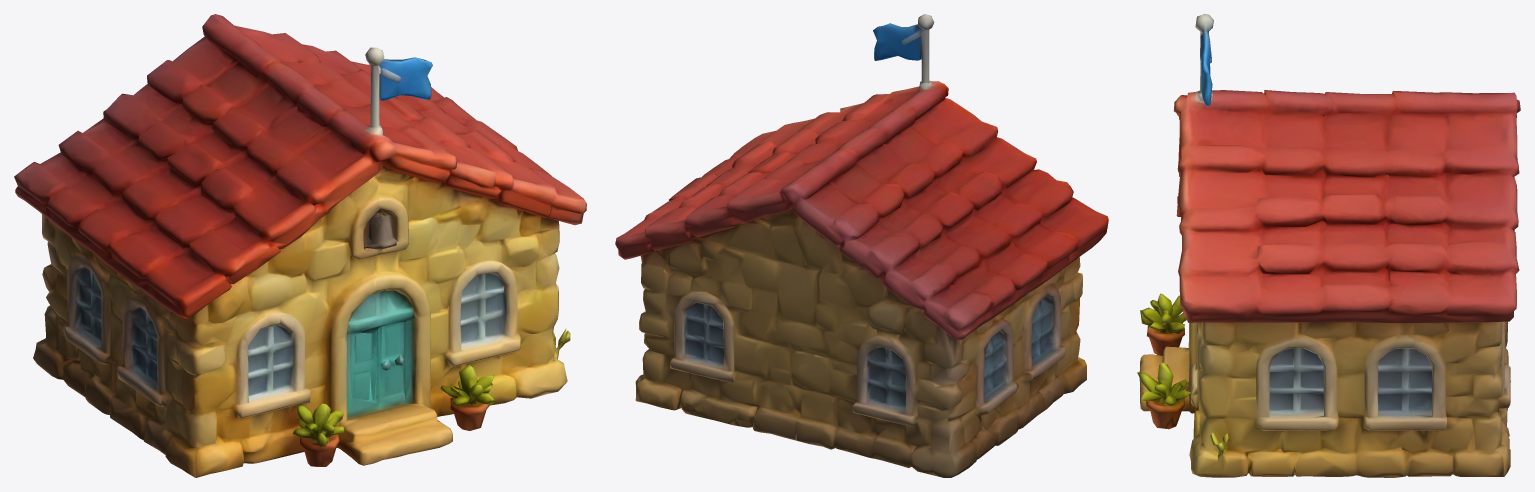
The model's file is classroom.glb.
The picture shows the model from 3 angles, left to right: view 1: azimuth 30°, elevation 25°; view 2: azimuth 150°, elevation 25°; view 3: azimuth 270°, elevation 25°; orthographic projection. The views are drawn at different scales.
Visible parts, largest first — view 1: tripo_node_6d3f4416-1090-45a7-afe2-54afaab62e38; view 2: tripo_node_6d3f4416-1090-45a7-afe2-54afaab62e38; view 3: tripo_node_6d3f4416-1090-45a7-afe2-54afaab62e38.
Part boxes in pixels (bbox=[...]): tripo_node_6d3f4416-1090-45a7-afe2-54afaab62e38: bbox=[14, 14, 586, 477]; tripo_node_6d3f4416-1090-45a7-afe2-54afaab62e38: bbox=[615, 14, 1108, 477]; tripo_node_6d3f4416-1090-45a7-afe2-54afaab62e38: bbox=[1137, 14, 1520, 477].
Size of the model in its own units: 1 by 0.8923 by 0.8236.
Materials: 1 (1 with a texture image).
